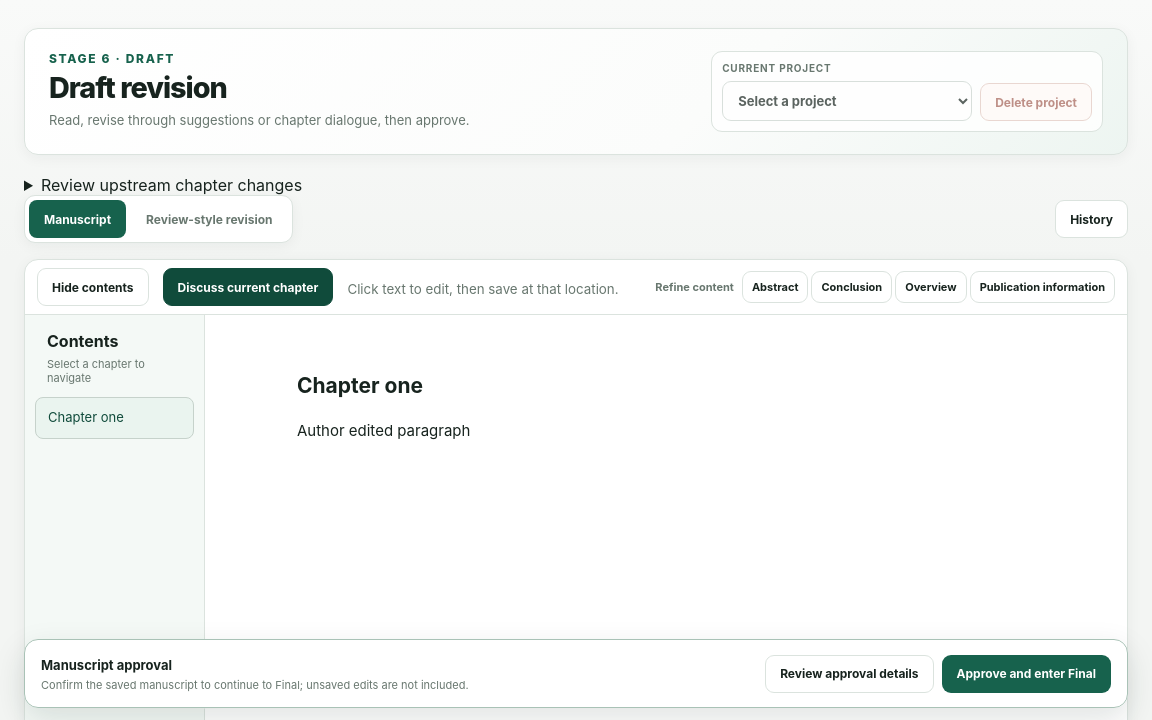
Test: edits the marked manuscript in place, saves and refreshes the official draft
Clear the field named "Paragraph text · S1-p1": (384, 431) 297,421 -> 470,440
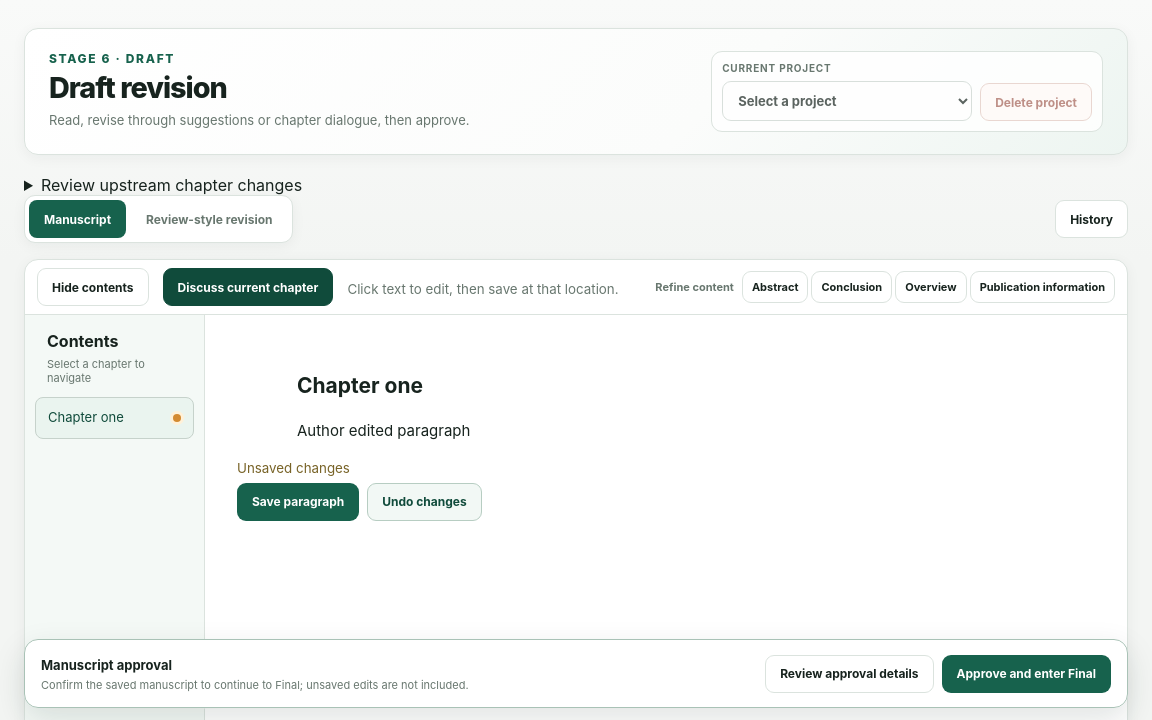
Click the button "Save paragraph": (298, 502) 237,483 -> 359,521
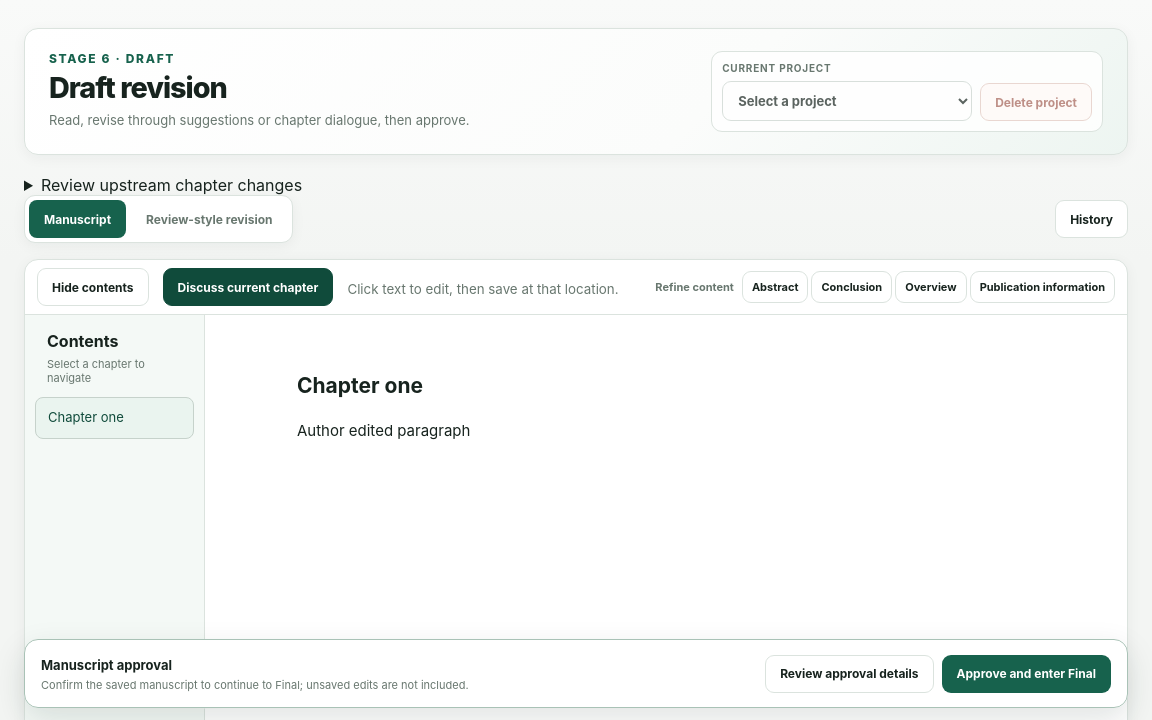
Expected: the field reads "Author edited paragraph", 297,421 -> 470,440
Expected: the text "Unsaved changes" is gone
